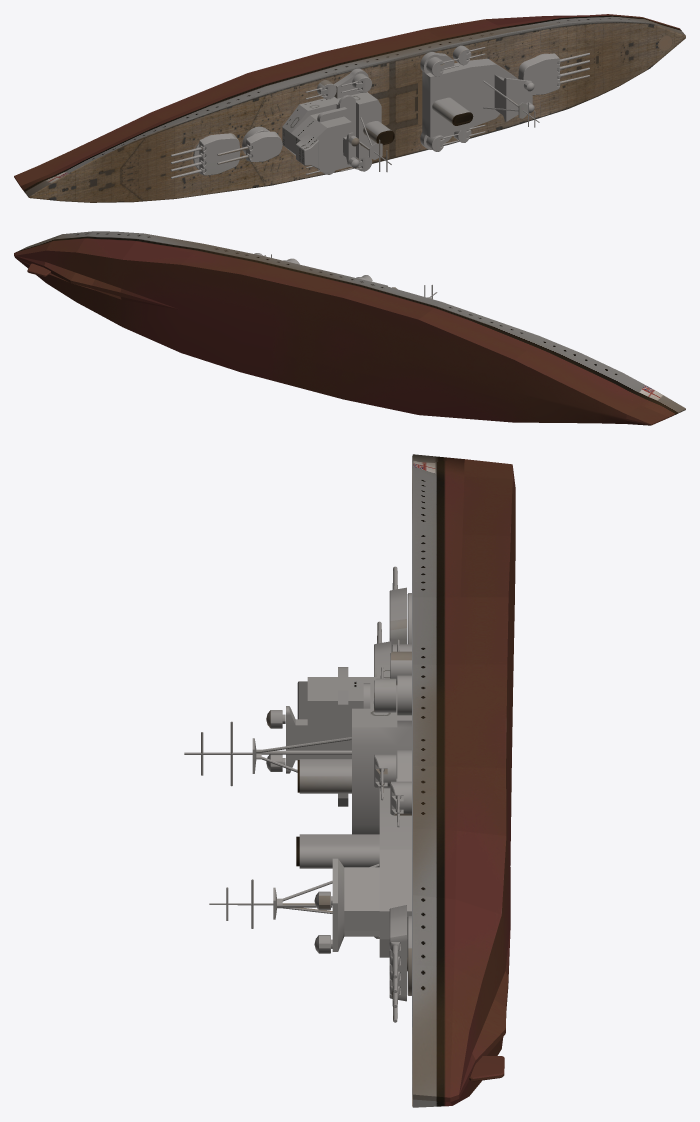
Rendered from 14083_WWII_ship - UK - King_George_V_Class_Battleship_v1_L1.obj.
3 renders of one model, top to bottom at view 1: azimuth 30°, elevation 25°; view 2: azimuth 150°, elevation 25°; view 3: azimuth 270°, elevation 25°, orthographic. The views are drawn at different scales.
Visible parts, largest first — view 1: _King_George_V_body, _King_George_V_detail; view 2: _King_George_V_body, _King_George_V_detail; view 3: _King_George_V_body, _King_George_V_detail.
Boxes of the visible parts, bbox=[...] form: _King_George_V_body: bbox=[14, 14, 685, 202]; _King_George_V_detail: bbox=[170, 45, 589, 178]; _King_George_V_body: bbox=[14, 231, 685, 425]; _King_George_V_detail: bbox=[27, 253, 437, 299]; _King_George_V_body: bbox=[412, 454, 515, 1107]; _King_George_V_detail: bbox=[184, 566, 504, 1081].
Bounding box in the file's own units: 2.67 × 0.391 × 0.5807.
1 material, 1 textured.
